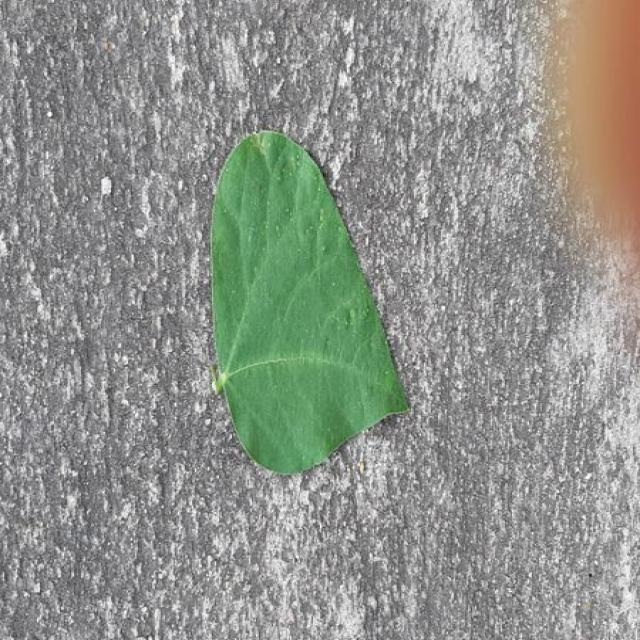beans: (215, 131, 408, 473)
